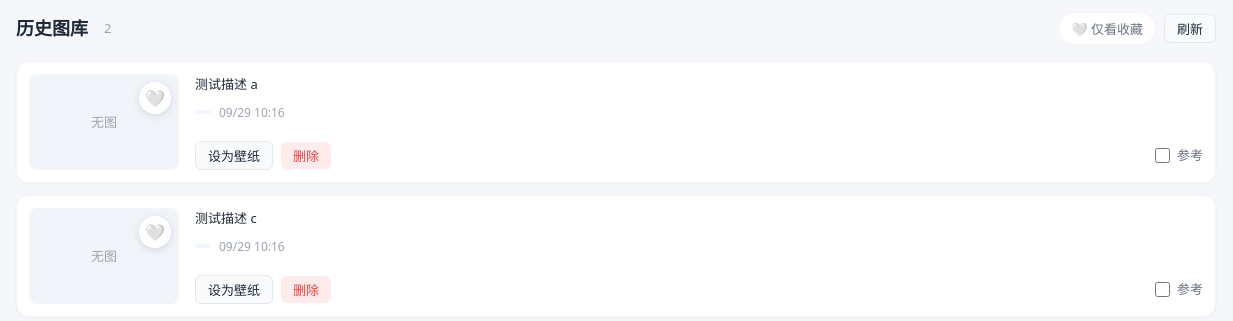
Test case: HistoryPanel · 收藏功能（B5 验收） › 收藏为空时显示空状态
Click the button "🤍 仅看收藏" at (1107, 28), box x1=1058 y1=12 x2=1156 y2=45
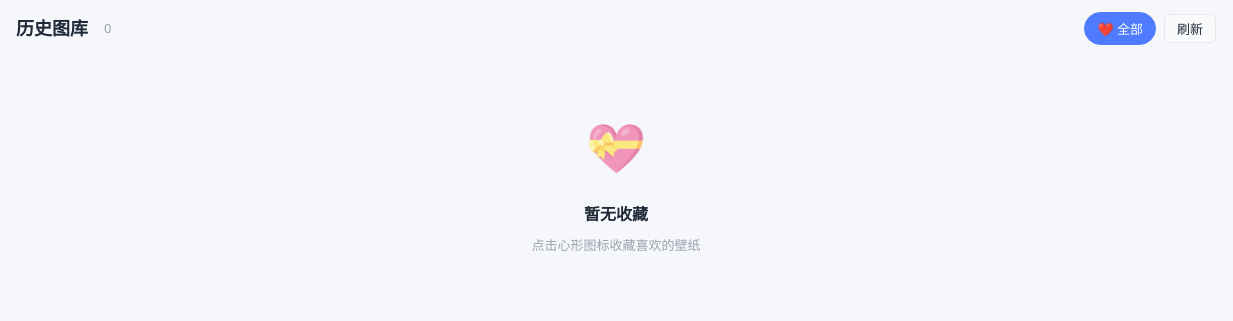
Check: the element with class "empty" is shown, box x1=532 y1=114 x2=700 y2=254
Check: the element with class "empty" shows "暂无收藏", box x1=584 y1=203 x2=648 y2=225
